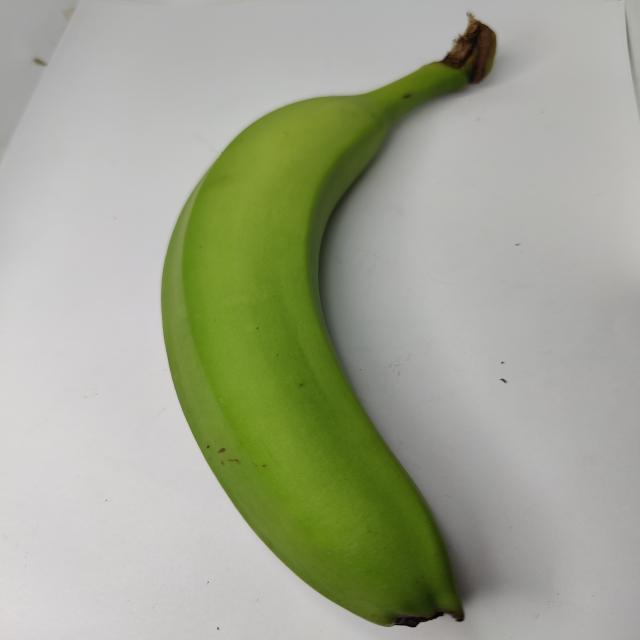raw: (107, 16, 550, 634)
